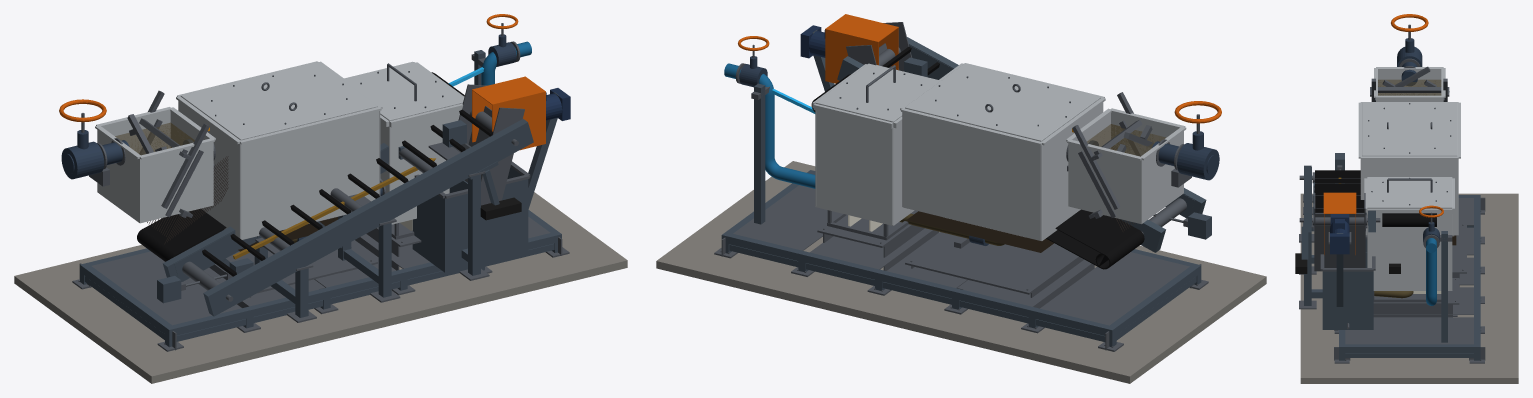
Rendered from domestic_sewage_filtration_system.obj.
3 renders of one model, left to right at view 1: azimuth 30°, elevation 25°; view 2: azimuth 150°, elevation 25°; view 3: azimuth 270°, elevation 25°, orthographic. The views are drawn at different scales.
Visible parts, largest first — view 1: GROUND_PAD, TANK_01_WALL_SOUTH, CONVEYOR_01_SIDE_RAIL_L, TANK_01_INSPECTION_LID, BIN_01_WALL_S, FRAME_DECKPANEL_00, FILTER_02_TOP_COVER, INLET_CHAMBER_WALL_S, FRAME_RAIL_FRONT_TOP, TANK_01_WALL_WEST, CONVEYOR_01_BELT, FILTER_02_WALL_S (+34 smaller); view 2: GROUND_PAD, TANK_01_WALL_NORTH, TANK_01_INSPECTION_LID, FILTER_02_WALL_N, TANK_01_PEDESTAL_TOPPLATE, FRAME_DECKPANEL_00, FRAME_RAIL_REAR_TOP, FILTER_02_TOP_COVER, INLET_CHAMBER_WALL_N, CONVEYOR_01_BELT, FRAME_DECKPANEL_04, TANK_01_WALL_WEST (+29 smaller); view 3: GROUND_PAD, TANK_01_INSPECTION_LID, FILTER_02_WALL_E, FRAME_DECKPANEL_04, BIN_01_WALL_E, FILTER_02_TOP_COVER, TANK_01_WALL_EAST, CONVEYOR_01_DISCHARGE_CHUTE, FRAME_RAIL_OUT_TOP, FRAME_RAIL_REAR_TOP, FILTER_02_PEDESTAL_WEB_1-1, INLET_CHAMBER_WALL_W (+37 smaller).
Part boxes in pixels (x1,y1,x2,y2): GROUND_PAD: (14, 192, 627, 383); TANK_01_WALL_SOUTH: (240, 111, 379, 239); CONVEYOR_01_SIDE_RAIL_L: (203, 119, 533, 316); TANK_01_INSPECTION_LID: (180, 62, 377, 140); BIN_01_WALL_S: (445, 179, 527, 271); FRAME_DECKPANEL_00: (91, 251, 241, 325); FILTER_02_TOP_COVER: (345, 62, 463, 121); INLET_CHAMBER_WALL_S: (141, 142, 212, 222); FRAME_RAIL_FRONT_TOP: (165, 233, 561, 337); TANK_01_WALL_WEST: (178, 101, 240, 238); CONVEYOR_01_BELT: (137, 72, 464, 261); FILTER_02_WALL_S: (390, 111, 459, 223); GROUND_PAD: (656, 161, 1266, 383); TANK_01_WALL_NORTH: (903, 112, 1041, 240); TANK_01_INSPECTION_LID: (905, 63, 1100, 141); FILTER_02_WALL_N: (816, 110, 892, 224); TANK_01_PEDESTAL_TOPPLATE: (905, 233, 1079, 294); FRAME_DECKPANEL_00: (1040, 252, 1189, 325); FRAME_RAIL_REAR_TOP: (721, 232, 1116, 337); FILTER_02_TOP_COVER: (815, 63, 937, 122); INLET_CHAMBER_WALL_N: (1069, 143, 1140, 223); CONVEYOR_01_BELT: (811, 74, 1144, 269); FRAME_DECKPANEL_04: (733, 185, 839, 250); TANK_01_WALL_WEST: (1041, 102, 1103, 241); GROUND_PAD: (1300, 193, 1518, 383); TANK_01_INSPECTION_LID: (1362, 102, 1457, 156); FILTER_02_WALL_E: (1367, 213, 1452, 290); FRAME_DECKPANEL_04: (1345, 317, 1473, 344); BIN_01_WALL_E: (1322, 271, 1373, 329); FILTER_02_TOP_COVER: (1367, 177, 1452, 208); TANK_01_WALL_EAST: (1360, 159, 1458, 235); CONVEYOR_01_DISCHARGE_CHUTE: (1315, 213, 1364, 271); FRAME_RAIL_OUT_TOP: (1342, 344, 1477, 352); FRAME_RAIL_REAR_TOP: (1474, 195, 1480, 352); FILTER_02_PEDESTAL_WEB_1-1: (1373, 302, 1452, 317); INLET_CHAMBER_WALL_W: (1378, 70, 1441, 95).
Bounding box in the file's own units: 4.17 × 1.8 × 2.05.
